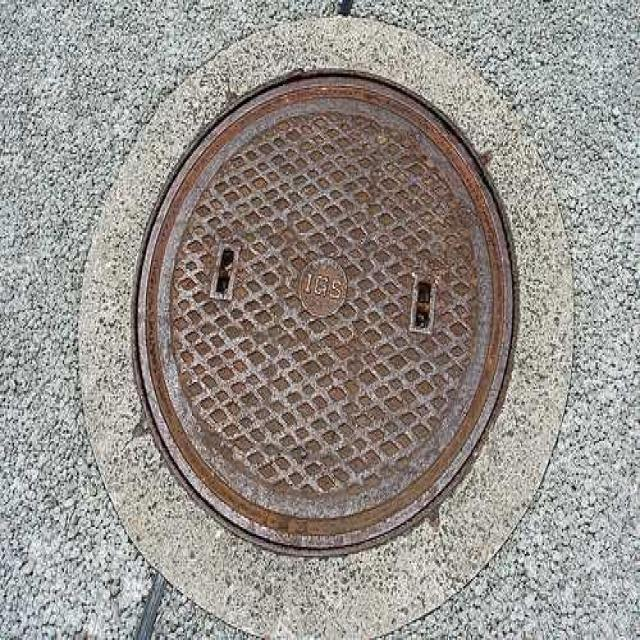manhole: (132, 70, 521, 559)
